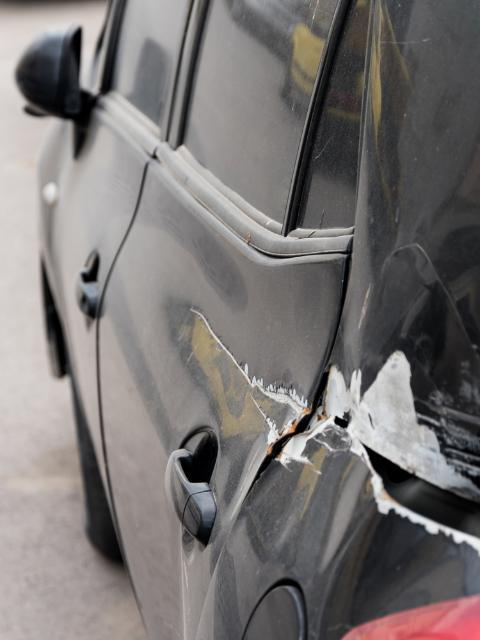crack: (350, 435, 480, 542)
scratch: (275, 357, 480, 494), (183, 297, 312, 446)
